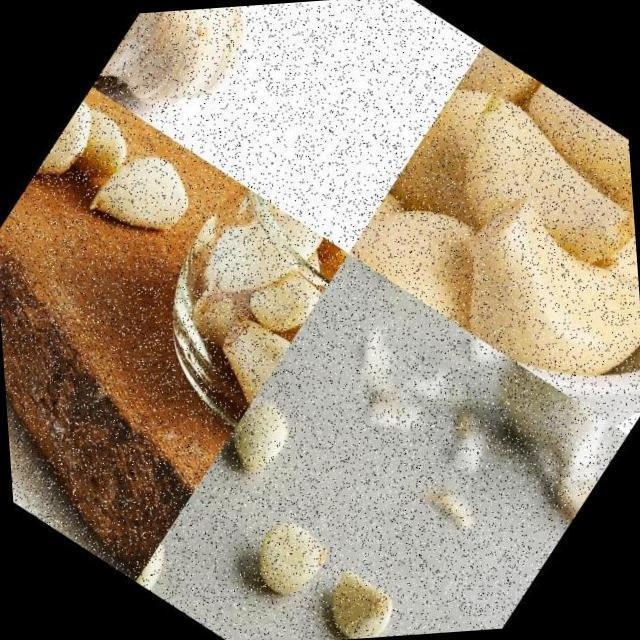garlic: (334, 35, 640, 433), (136, 179, 357, 410), (86, 0, 328, 153), (80, 134, 210, 263), (27, 90, 148, 217), (227, 502, 341, 618), (208, 388, 306, 492), (308, 558, 408, 640)
